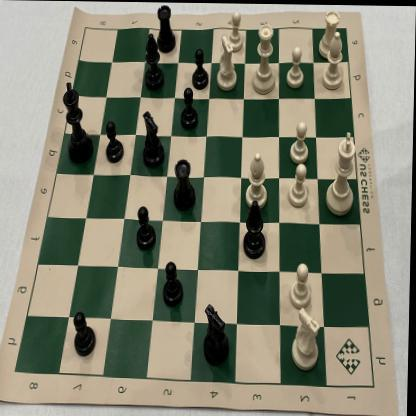black-bishop: (241, 198, 270, 263), (144, 29, 166, 95)
black-king: (60, 77, 98, 167)
black-knight: (202, 300, 234, 368), (139, 106, 166, 172)
black-pawn: (72, 308, 99, 361), (161, 255, 187, 309), (136, 200, 159, 256), (102, 119, 126, 168), (178, 84, 200, 132), (190, 46, 213, 90)
black-rook: (172, 152, 200, 214), (156, 2, 180, 55)
white-bishop: (318, 29, 348, 92), (244, 147, 272, 212)
white-king: (322, 126, 361, 220)
white-knight: (290, 304, 326, 375), (214, 31, 241, 93)
white-pawn: (290, 258, 316, 310), (286, 158, 312, 210), (288, 116, 314, 166), (223, 7, 249, 53), (284, 43, 308, 88)
white-queen: (250, 21, 280, 98)
white-rook: (313, 4, 345, 62)
